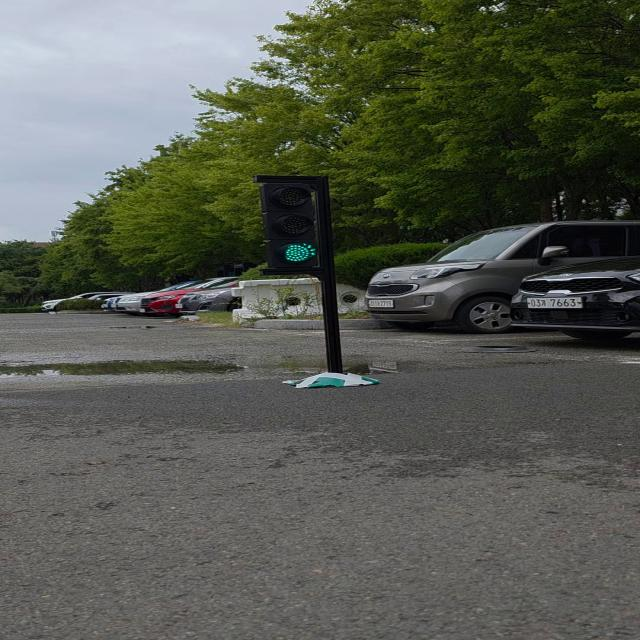green: (264, 178, 333, 272)
